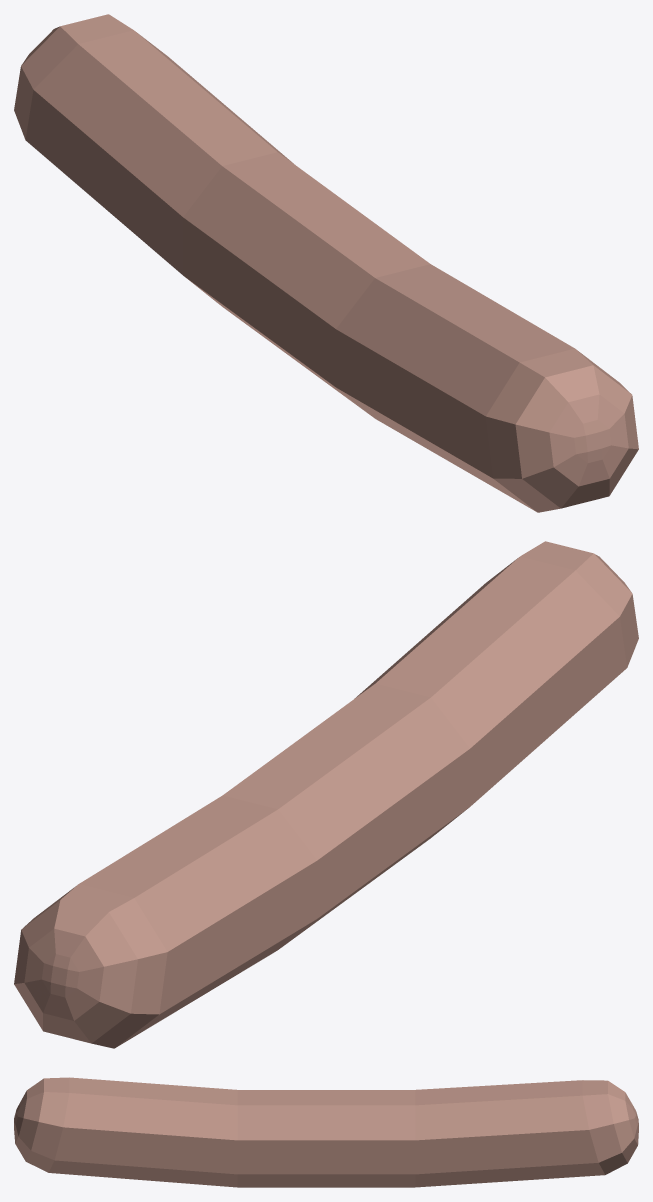
Rendered from Just_Hotdog.glb.
The picture shows the model from 3 angles, top to bottom: view 1: azimuth 30°, elevation 25°; view 2: azimuth 150°, elevation 25°; view 3: azimuth 270°, elevation 25°; orthographic projection. The views are drawn at different scales.
Visible parts, largest first — view 1: Hotdog; view 2: Hotdog; view 3: Hotdog.
Boxes of the visible parts, x1,y1,x2,y2 form: Hotdog: [14, 14, 638, 512]; Hotdog: [14, 541, 638, 1048]; Hotdog: [14, 1077, 638, 1187].
Size of the model in its own units: 0.2396 by 0.2779 by 1.66.
